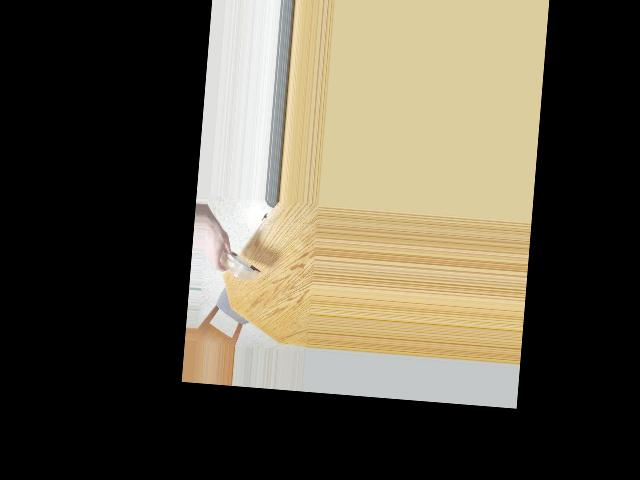cheese: (216, 250, 261, 281)
